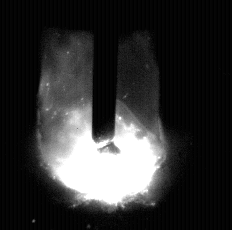arame: (92, 0, 117, 143)
poca: (37, 0, 168, 230)
